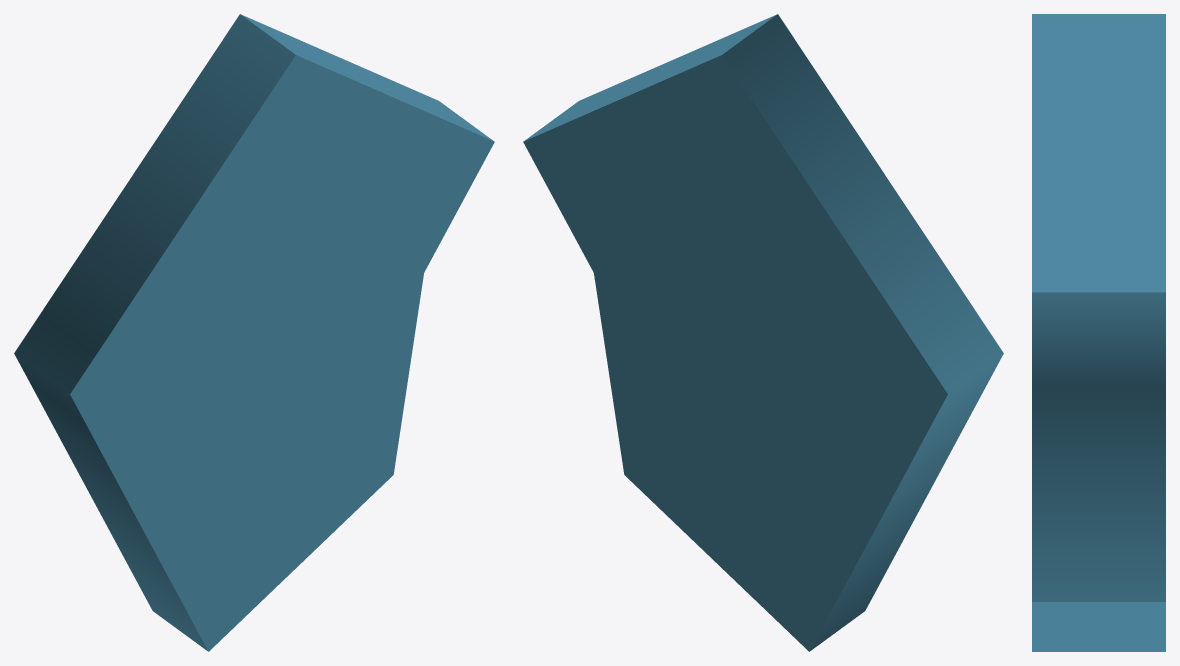
Rendered from NexusA_Trigger_3.fbx.
3 renders of one model, left to right at view 1: azimuth 30°, elevation 25°; view 2: azimuth 150°, elevation 25°; view 3: azimuth 270°, elevation 25°, orthographic. The views are drawn at different scales.
Visible parts, largest first — view 1: pCube49; view 2: pCube49; view 3: pCube49.
Part boxes in pixels (left/top/right/bottom): pCube49: left=14, top=14, right=494, bottom=651; pCube49: left=523, top=14, right=1003, bottom=651; pCube49: left=1032, top=14, right=1165, bottom=651.
Bounding box in the file's own units: 37.94 × 49.13 × 8.65.
